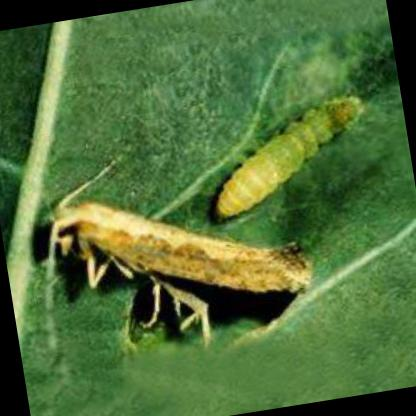plutella: (41, 142, 319, 354), (217, 92, 363, 216)
